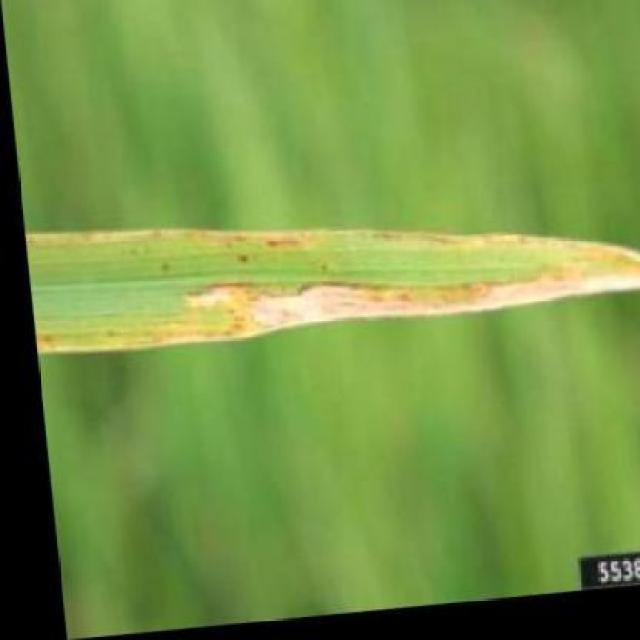Brown_Spot: (20, 178, 640, 365)
